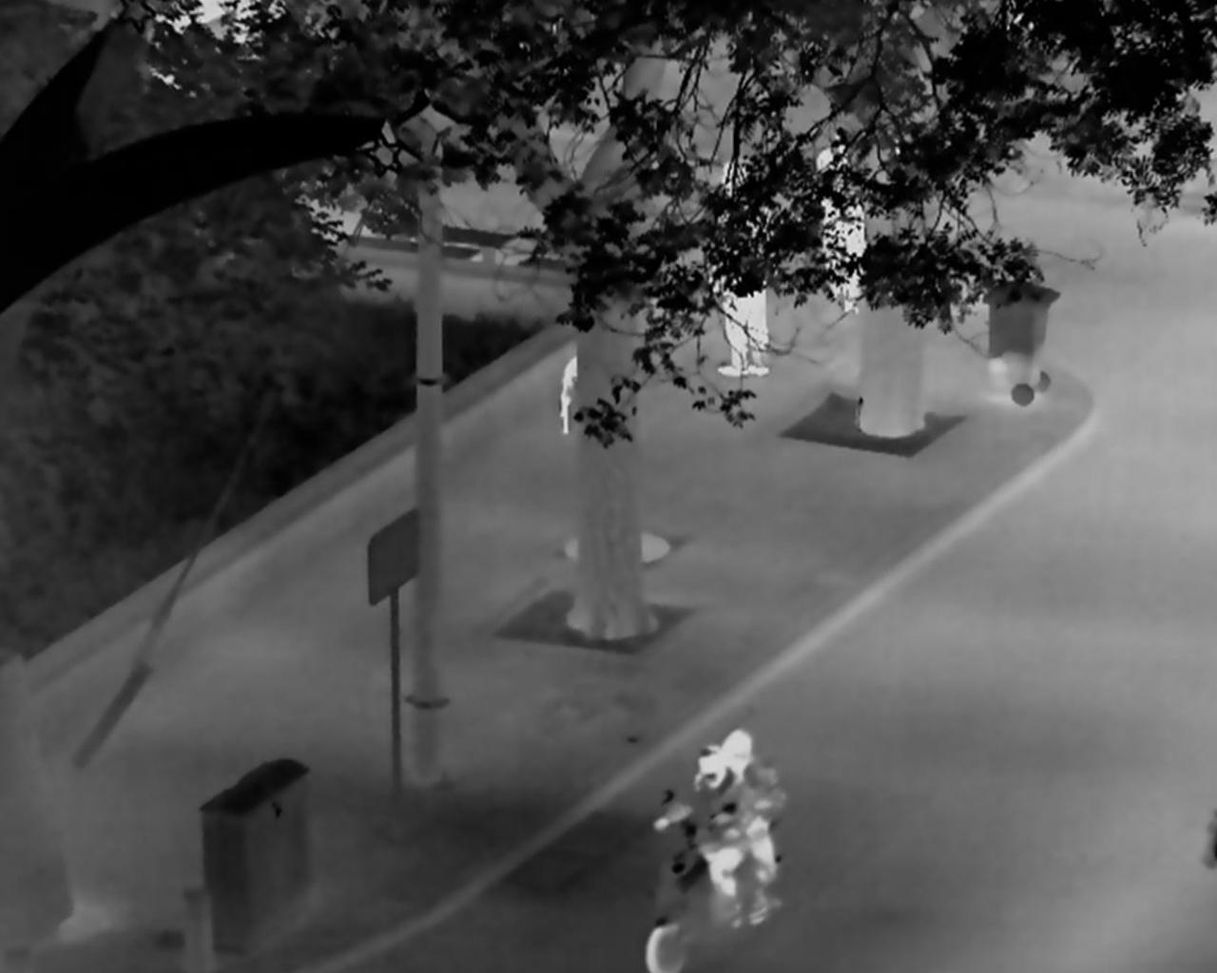person: (653, 746, 742, 927), (704, 161, 774, 376), (722, 727, 782, 925), (815, 139, 869, 315)
